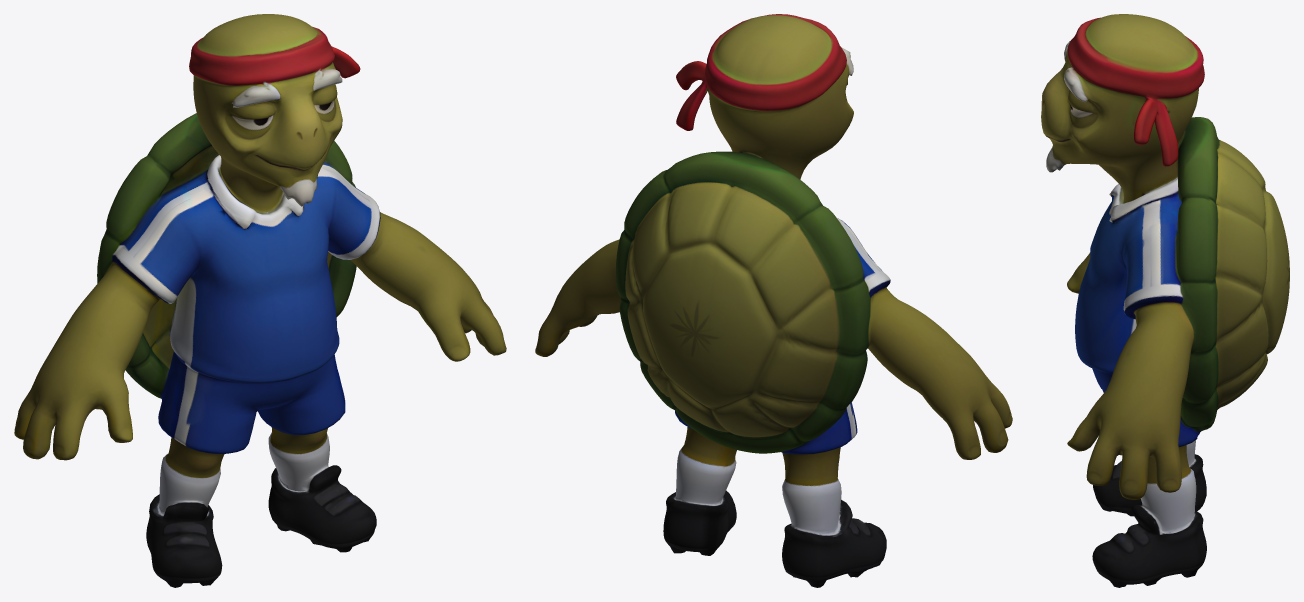
The model's file is pausa.glb.
3 views of the same model, side by side, from view 1: azimuth 30°, elevation 25°; view 2: azimuth 150°, elevation 25°; view 3: azimuth 270°, elevation 25° (orthographic). The views are drawn at different scales.
Visible parts, largest first — view 1: char; view 2: char; view 3: char.
Boxes of the visible parts, bbox=[...] form: char: bbox=[14, 14, 506, 587]; char: bbox=[535, 14, 1012, 587]; char: bbox=[1041, 14, 1289, 587].
Bounding box in the file's own units: 1.56 × 1.7 × 0.7379.
1 material, 1 textured.
